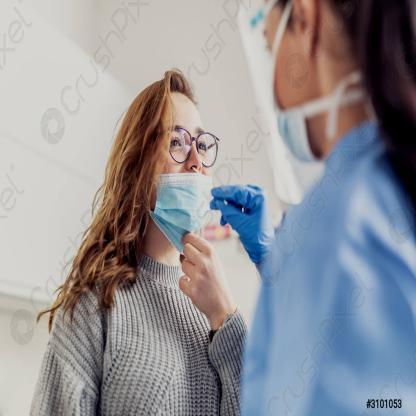mask_weared_incorrect: (142, 116, 220, 254)
